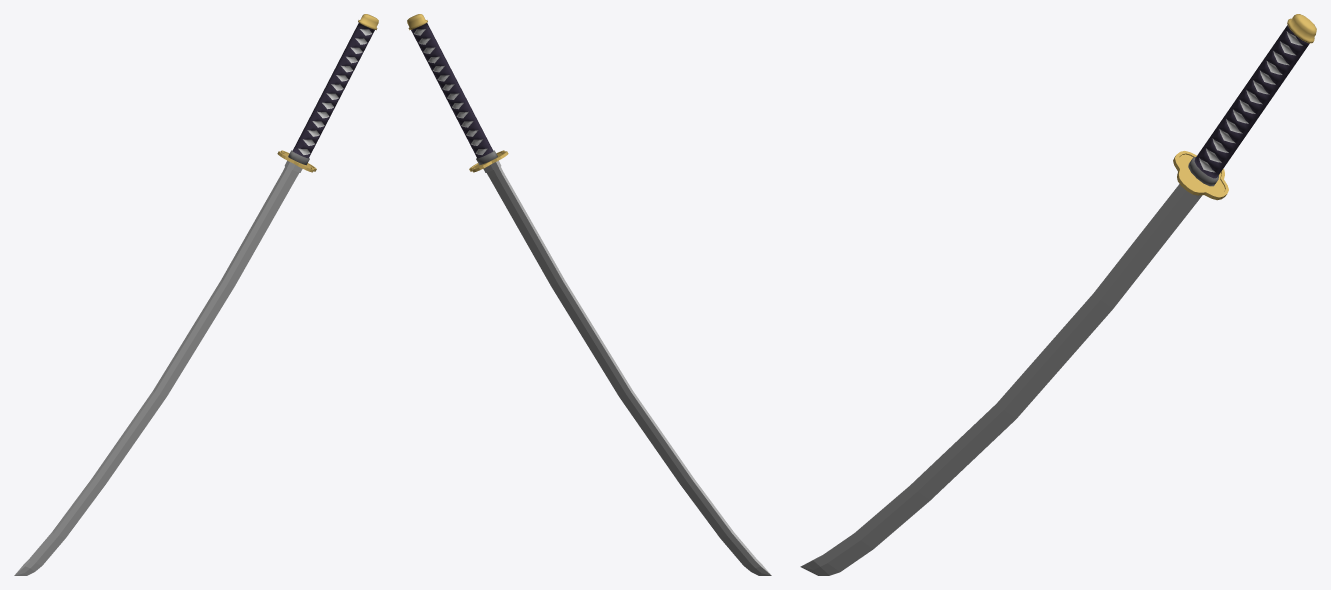
3 renders of one model, left to right at view 1: azimuth 30°, elevation 25°; view 2: azimuth 150°, elevation 25°; view 3: azimuth 330°, elevation 25°, orthographic. The views are drawn at different scales.
Parts seen in each view (by area): view 1: blade, hilt; view 2: blade, hilt; view 3: blade, hilt, guard.
Part boxes in pixels (x1=…): blade: x1=14, y1=160, x2=302, y2=575; hilt: x1=288, y1=14, x2=378, y2=165; blade: x1=483, y1=160, x2=771, y2=575; hilt: x1=407, y1=14, x2=497, y2=165; blade: x1=800, y1=184, x2=1201, y2=575; hilt: x1=1188, y1=14, x2=1316, y2=186; guard: x1=1173, y1=151, x2=1228, y2=200.
Size of the model in its own units: 822 by 1032 by 88.18.
